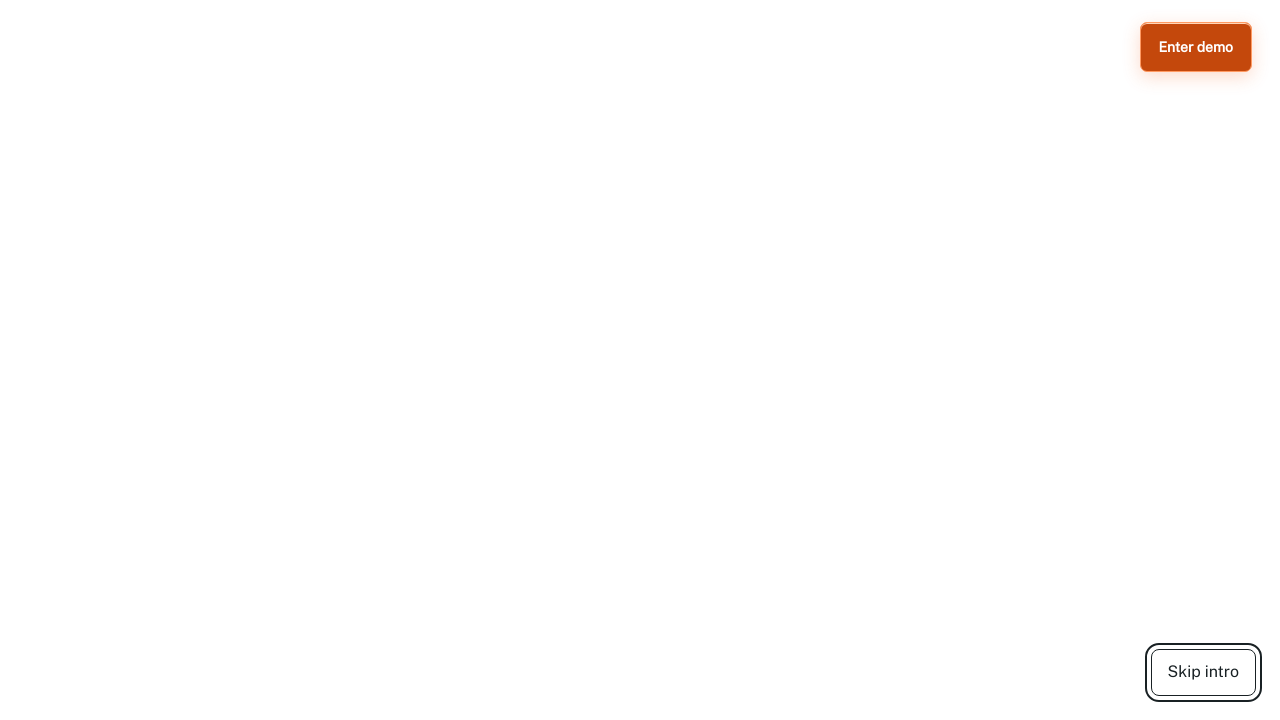
Test case: ignores the retired manual motion setting on first visit and replay
Check: the button "Skip intro" is shown, box [1151,649,1256,696]
Press Escape
(page scrolled)
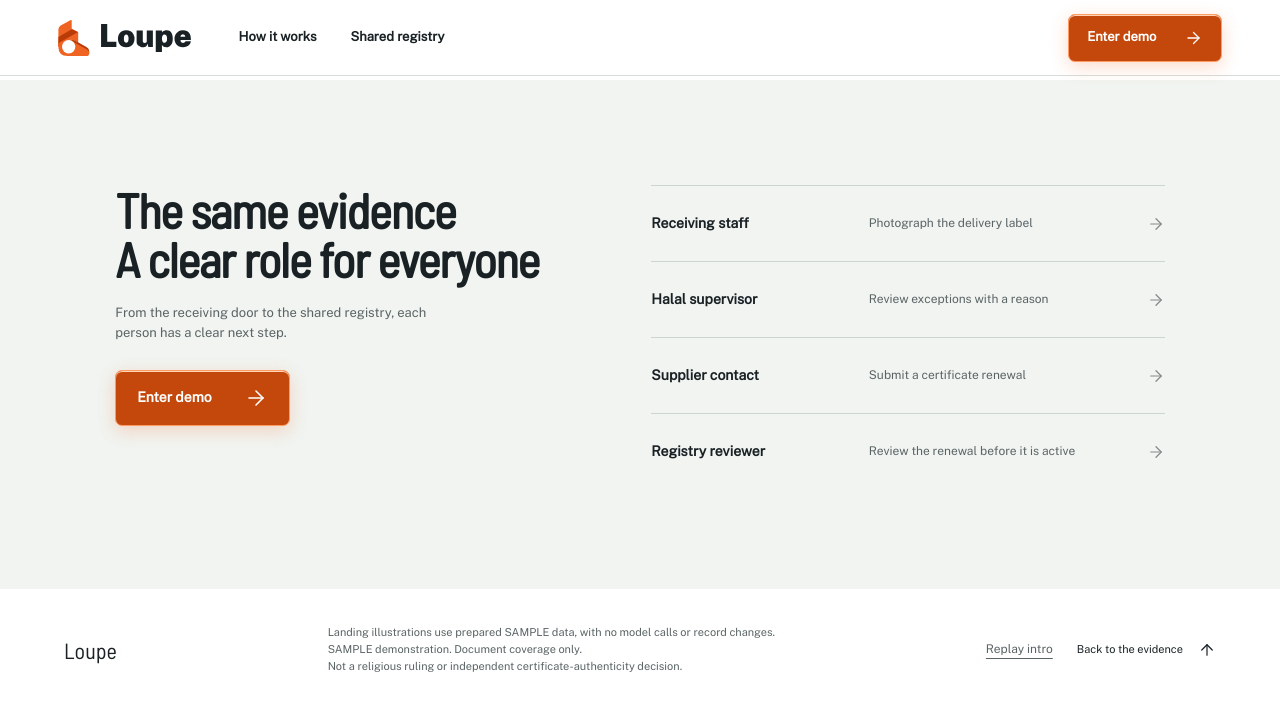
Click the button "Replay intro". click: (1019, 650)
box: [986,628,1053,672]
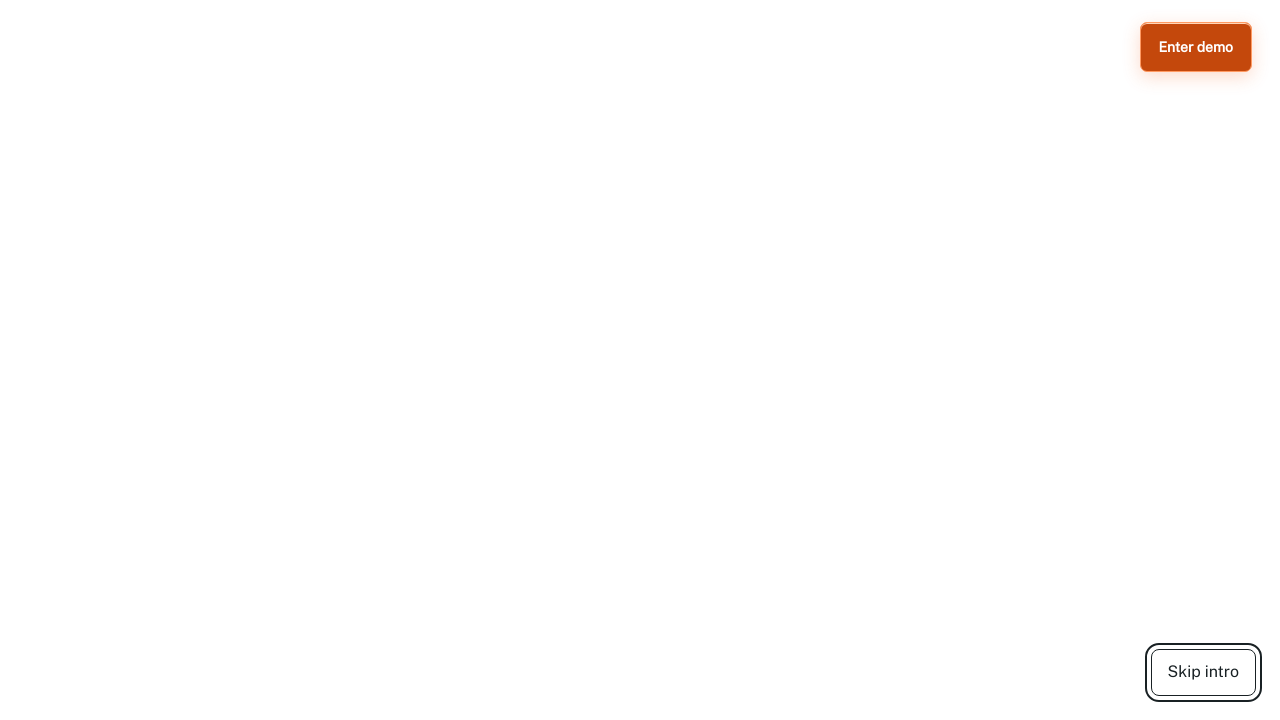
Check: the button "Skip intro" is shown, box [1151,649,1256,696]
